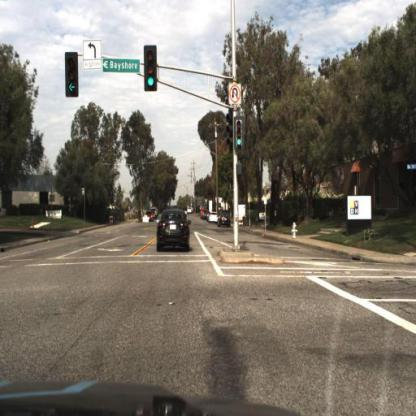car: (157, 206, 194, 253), (217, 208, 233, 233), (206, 209, 221, 230)
trafficLight-Green: (143, 45, 159, 94), (234, 116, 243, 151)
trafficLight-GreenLeft: (67, 53, 81, 98)
